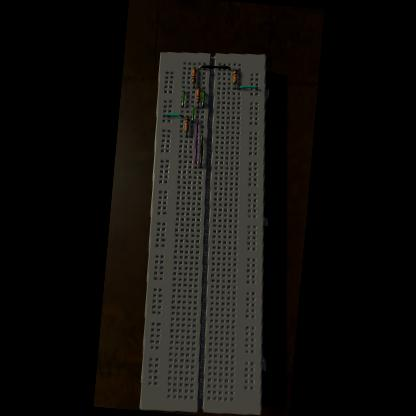breadboard: (128, 46, 292, 416)
resistor: (230, 69, 236, 84), (190, 68, 195, 83), (194, 88, 199, 102), (182, 118, 187, 132)
wire: (192, 121, 200, 168), (198, 64, 228, 72), (198, 136, 204, 168), (238, 84, 257, 92), (162, 113, 181, 118), (181, 91, 184, 108), (200, 92, 203, 108), (190, 106, 192, 122), (232, 84, 234, 90), (192, 83, 194, 89), (196, 103, 198, 108), (185, 132, 186, 137), (192, 68, 194, 68), (186, 116, 186, 118)
